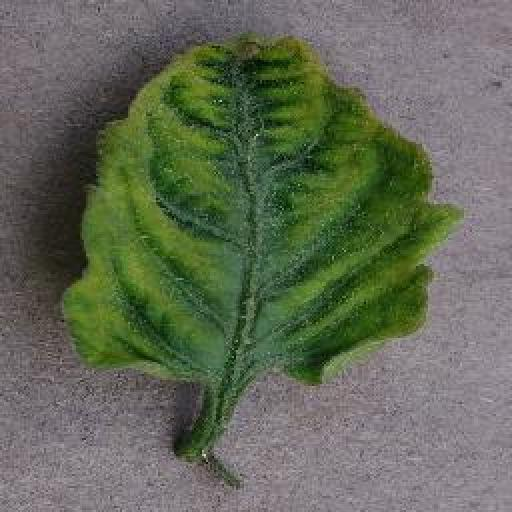disease_tomato: (61, 34, 464, 390)
